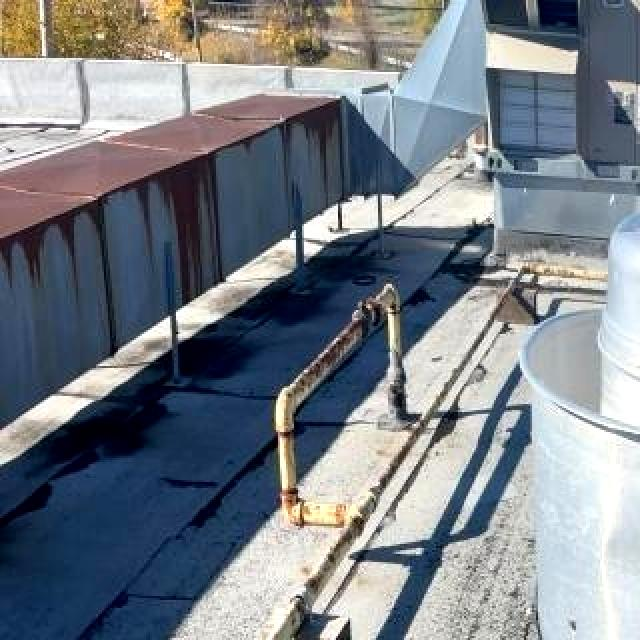GRAVITY-VENT: (500, 204, 640, 640)
RTU: (480, 0, 640, 224)
